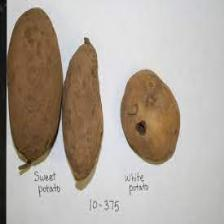Defected potato: (9, 7, 61, 175), (119, 61, 185, 174), (62, 35, 106, 194)
